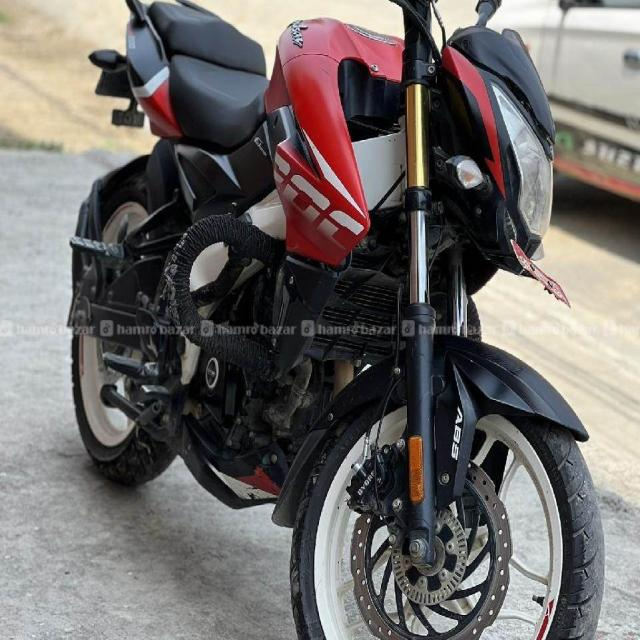License-plate: (500, 238, 576, 308)
